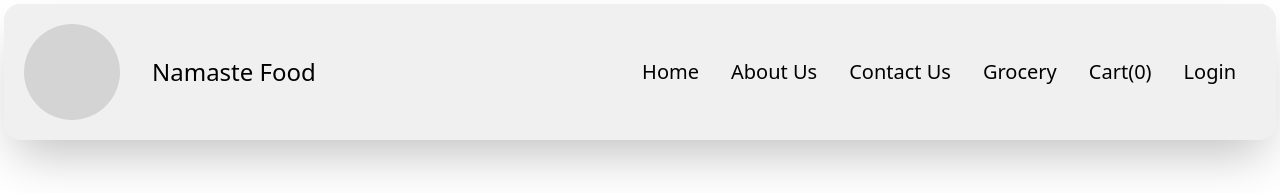
Header Component Test Cases › should change login button to logout on click
Step 1. Click the button "Login" → click(1210, 72), box top-left (1184, 58), bottom-right (1236, 86)
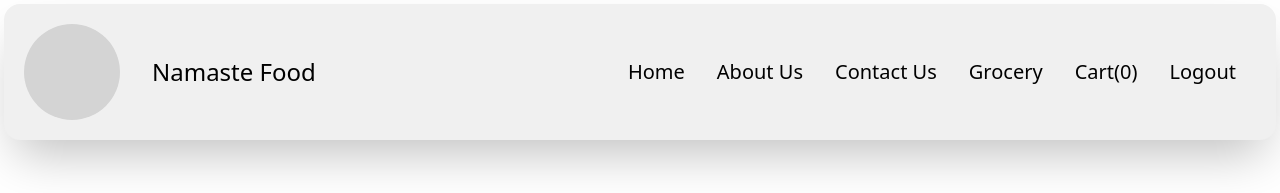
Now the button "Logout" is shown, box top-left (1169, 58), bottom-right (1236, 86)
